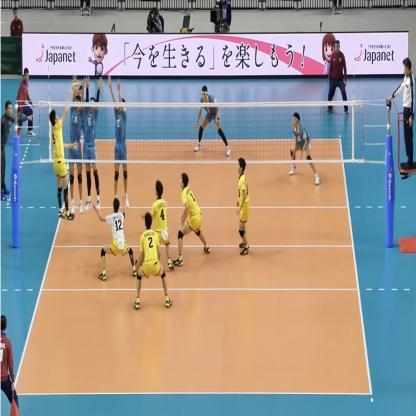spike: (49, 78, 82, 226)
